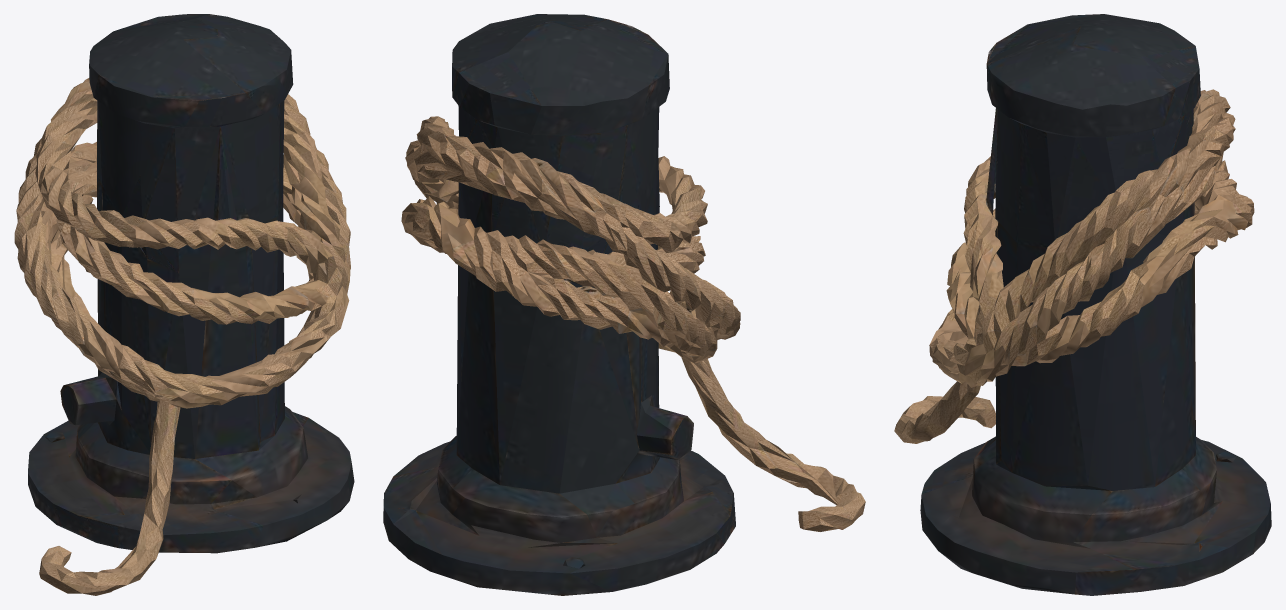
The model's file is bollard.glb.
The picture shows the model from 3 angles, left to right: view 1: azimuth 30°, elevation 25°; view 2: azimuth 150°, elevation 25°; view 3: azimuth 270°, elevation 25°; orthographic projection. The views are drawn at different scales.
Parts seen in each view (by area): view 1: Mesh_0; view 2: Mesh_0; view 3: Mesh_0.
Boxes of the visible parts, x1,y1,x2,y2 form: Mesh_0: [14, 14, 354, 595]; Mesh_0: [383, 14, 865, 595]; Mesh_0: [894, 14, 1271, 595].
Size of the model in its own units: 1.53 by 1.9 by 1.32.
1 material, 1 textured.
